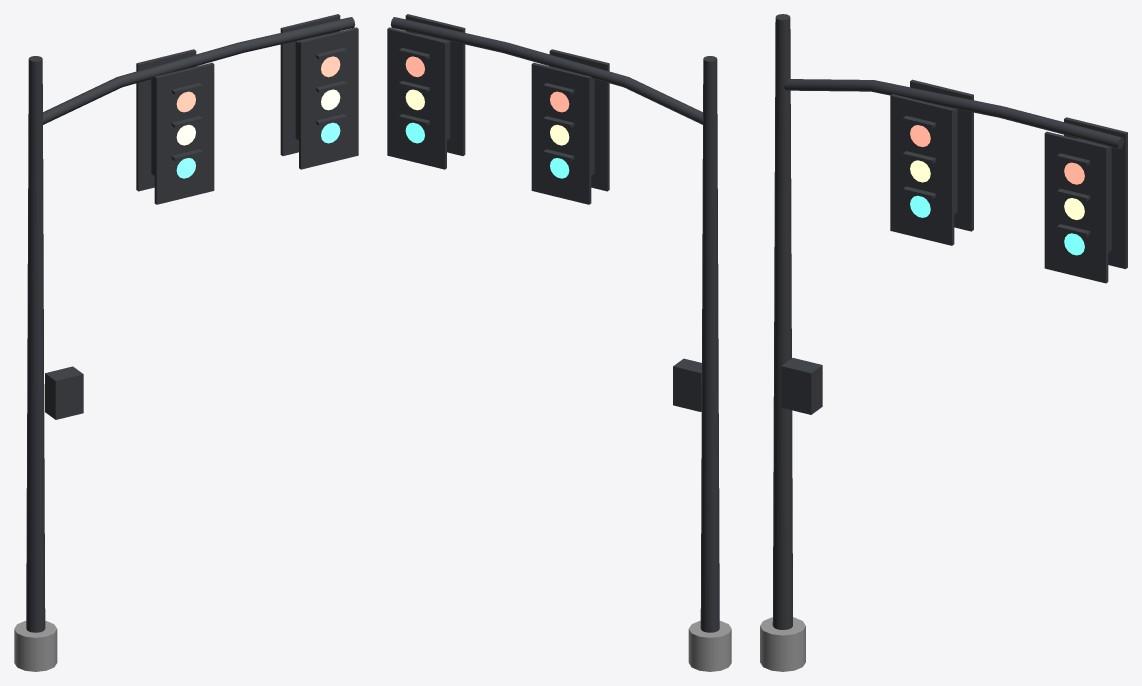
File: prop_street_signal.glb
3 views of the same model, side by side, from view 1: azimuth 30°, elevation 25°; view 2: azimuth 150°, elevation 25°; view 3: azimuth 330°, elevation 25° (orthographic). The views are drawn at different scales.
Parts seen in each view (by area): view 1: signal_pole, signal_lens_green, signal_lens_red, signal_lens_amber, signal_off; view 2: signal_pole, signal_lens_green, signal_lens_red, signal_lens_amber, signal_off; view 3: signal_pole, signal_lens_red, signal_lens_amber, signal_lens_green, signal_off.
Part boxes in pixels (x1,y1,x2,y2): signal_pole: (14, 14, 358, 671); signal_lens_green: (176, 122, 340, 178); signal_lens_red: (176, 56, 340, 112); signal_lens_amber: (176, 89, 340, 145); signal_off: (175, 56, 340, 179); signal_pole: (387, 14, 731, 671); signal_lens_green: (405, 122, 569, 178); signal_lens_red: (405, 56, 569, 112); signal_lens_amber: (405, 89, 569, 145); signal_off: (405, 56, 570, 179); signal_pole: (760, 14, 1127, 671); signal_lens_red: (910, 125, 1084, 184); signal_lens_amber: (910, 160, 1084, 219); signal_lens_green: (910, 195, 1084, 255); signal_off: (909, 124, 1085, 256).
Size of the model in its own units: 3.6 by 6.2 by 0.5.
